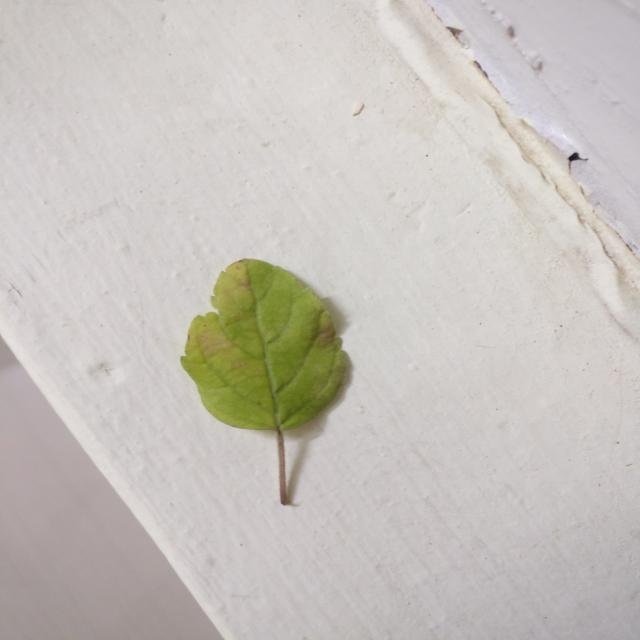tulsi: (182, 259, 347, 504)
